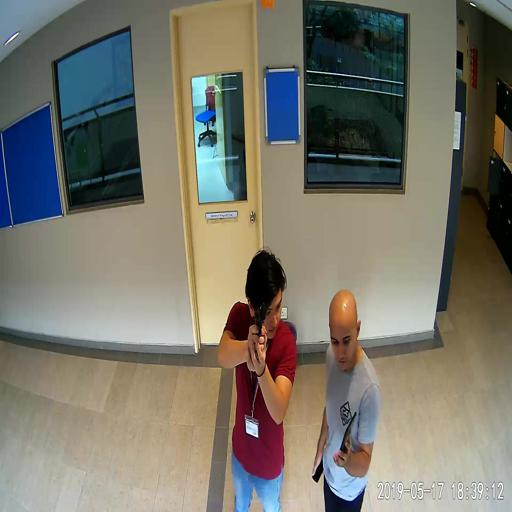pistol: (254, 300, 266, 353)
